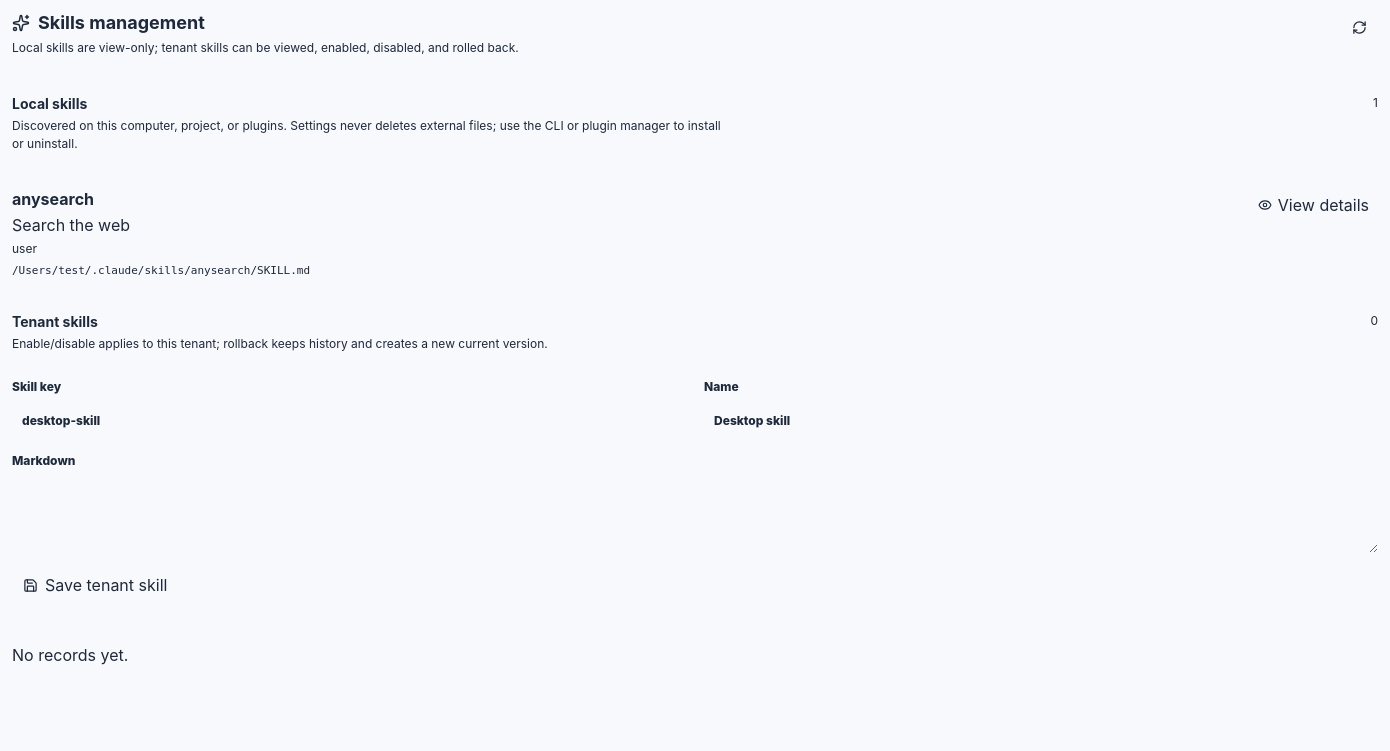
Test: loads local skill details without offering filesystem deletion
The image size is (1390, 751).
Click the button "View details".
click(1313, 205)  # box [1249,189,1378,221]
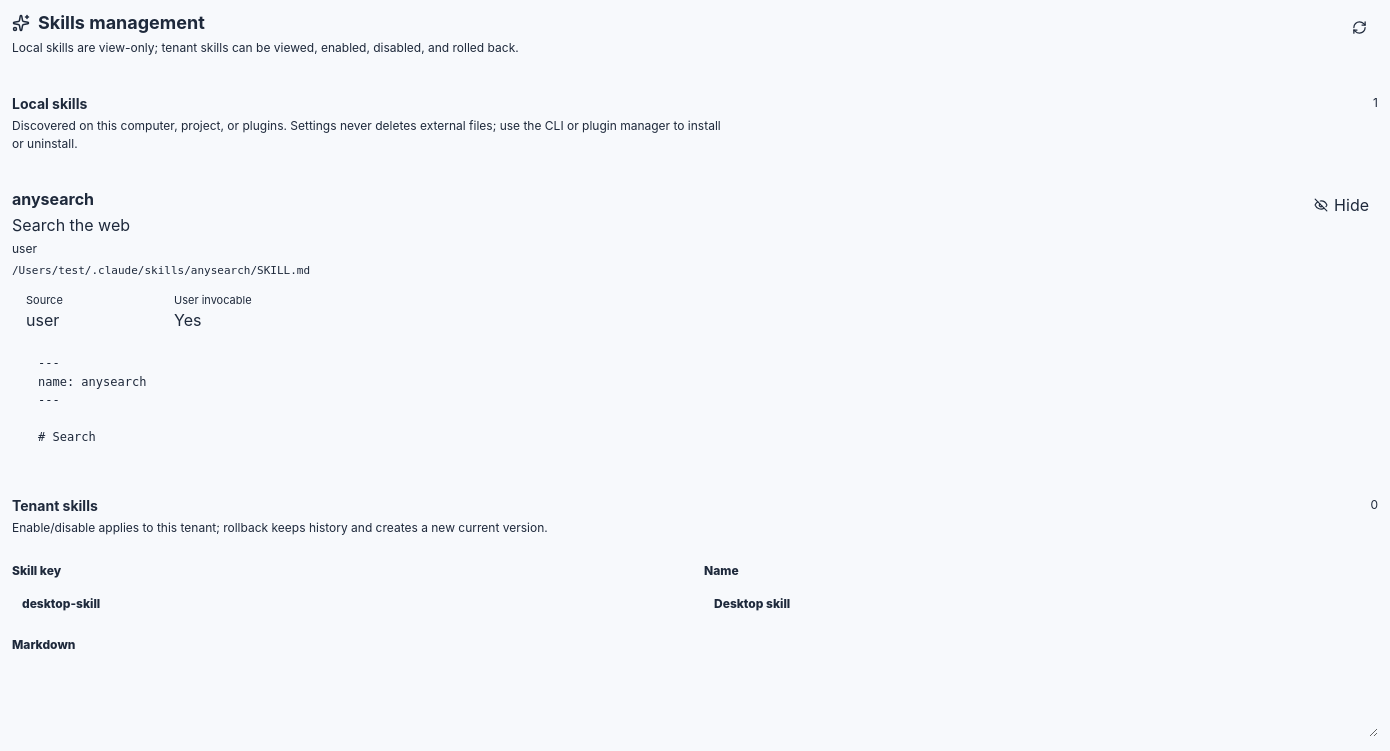
Expected: the text "use the CLI or plugin manager to install or uninstall" is shown, [12,118,721,151]
Expected: the text "# Search" is shown, [38,356,146,444]
